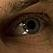eye: (24, 19, 40, 33)
